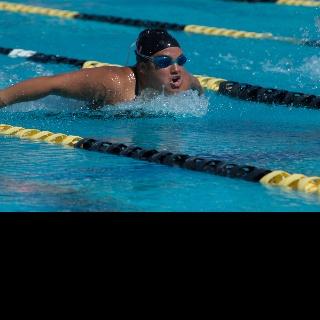without_mask: (146, 46, 185, 95)
